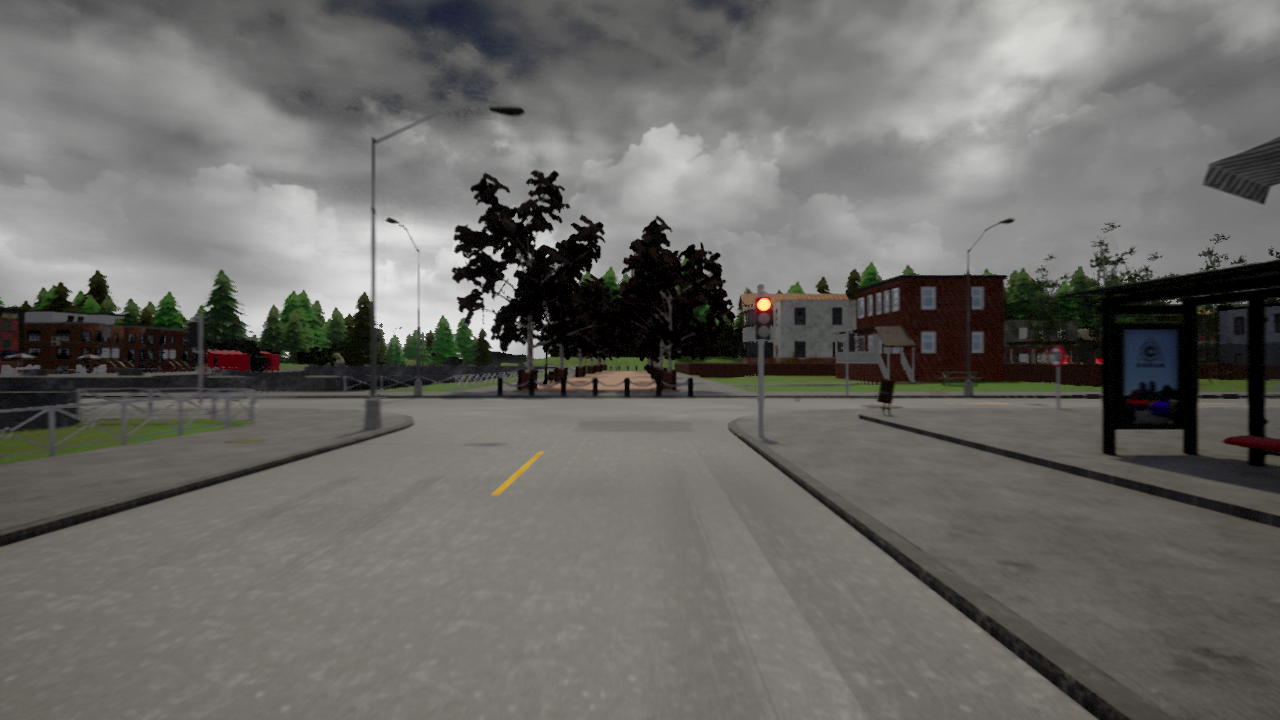red: (755, 295, 773, 341)
